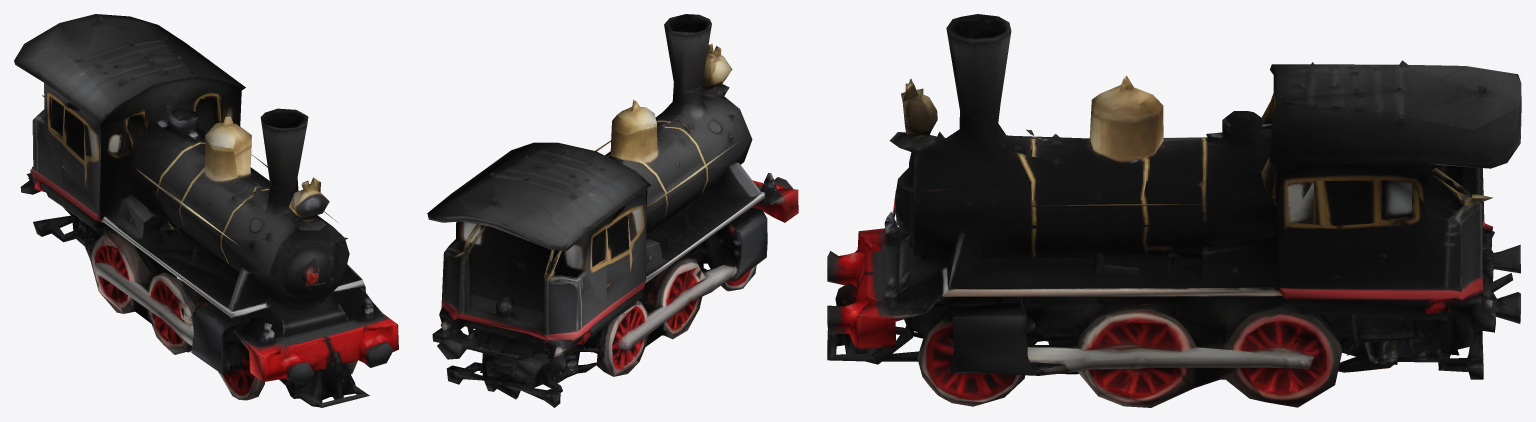
File: loco.glb
The picture shows the model from 3 angles, left to right: view 1: azimuth 30°, elevation 25°; view 2: azimuth 150°, elevation 25°; view 3: azimuth 270°, elevation 25°; orthographic projection. The views are drawn at different scales.
Parts seen in each view (by area): view 1: geometry_0; view 2: geometry_0; view 3: geometry_0.
Boxes of the visible parts, <box> form: geometry_0: <box>14,14,398,407</box>; geometry_0: <box>427,14,798,407</box>; geometry_0: <box>827,14,1521,407</box>.
Size of the model in its own units: 4.18 by 7.19 by 13.
1 material, 1 textured.
